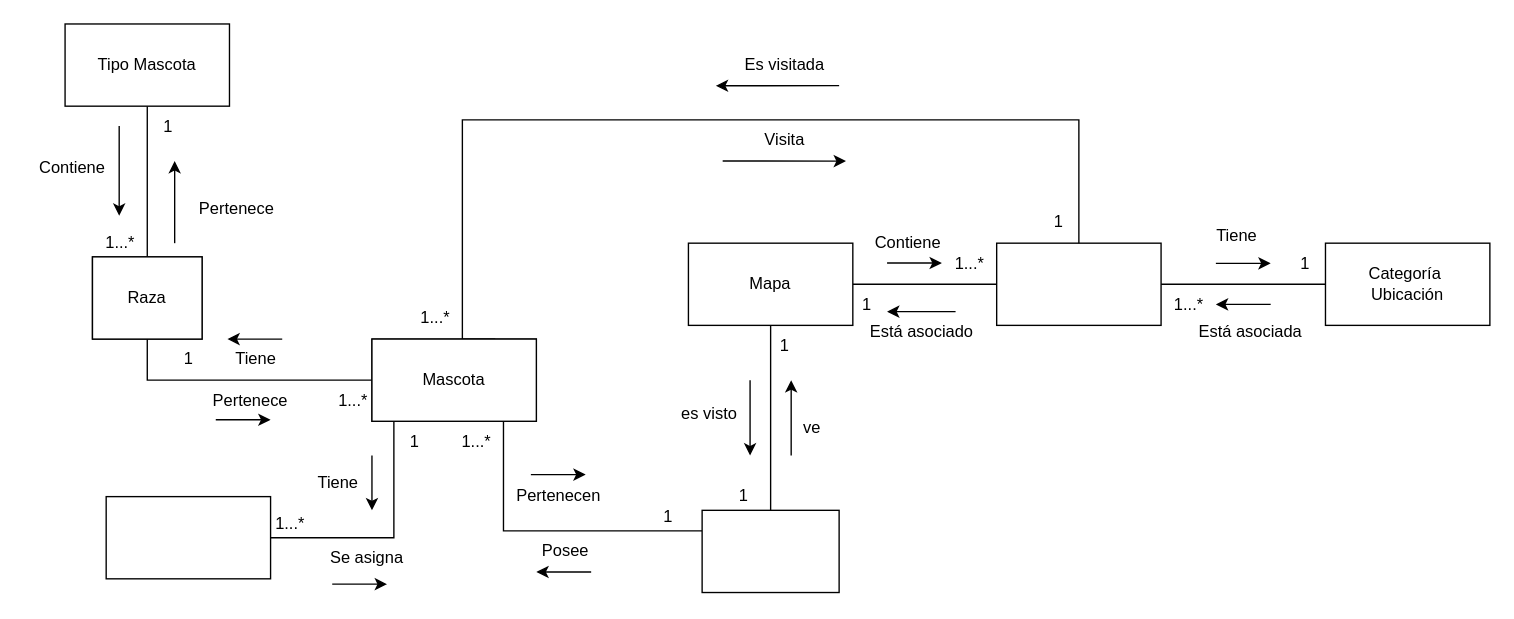
Image size: 1514x619. Some labels were removed from this diagram. Here are the shapes that lost their labels. From the top down, the centre of each, then its label:
the point at 1078,283: Ubicación
the point at 188,537: Cuidado basico
the point at 770,551: Dueño
